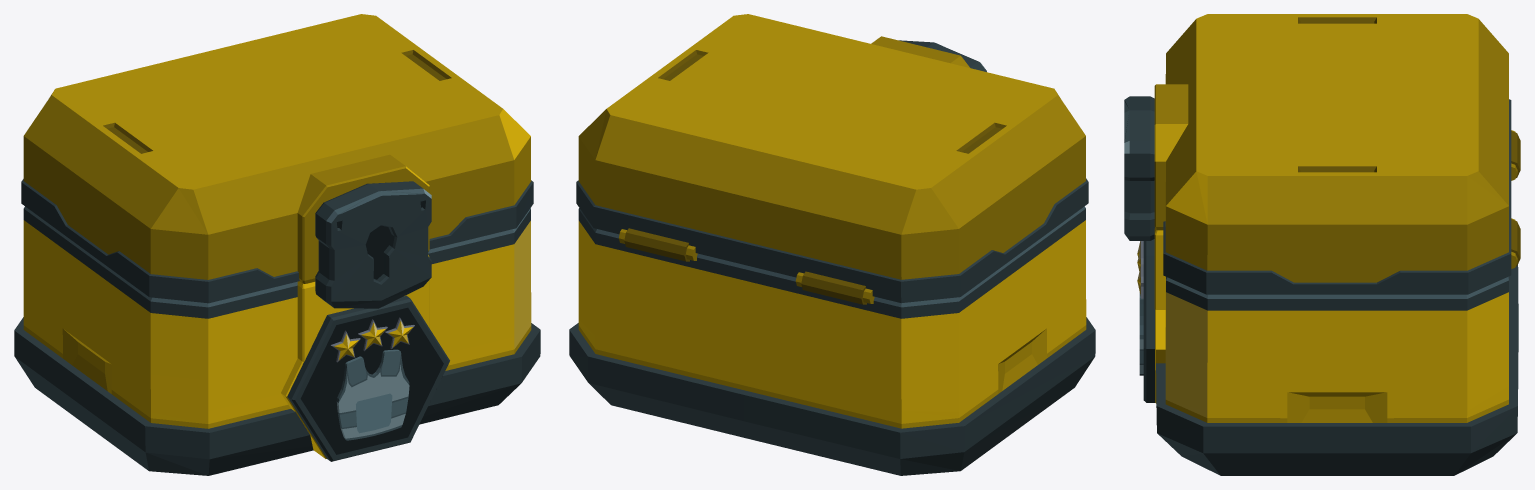
File: BOX_GEAR_G1_03.fbx
The picture shows the model from 3 angles, left to right: view 1: azimuth 30°, elevation 25°; view 2: azimuth 150°, elevation 25°; view 3: azimuth 270°, elevation 25°; orthographic projection. The views are drawn at different scales.
Parts seen in each view (by area): view 1: Object003, BOX_GEAR_G1_03, Object004; view 2: Object003, BOX_GEAR_G1_03; view 3: Object003, BOX_GEAR_G1_03, Object004.
Boxes of the visible parts, bbox=[...] form: Object003: bbox=[21, 14, 533, 303]; BOX_GEAR_G1_03: bbox=[14, 206, 540, 475]; Object004: bbox=[315, 181, 431, 308]; Object003: bbox=[576, 14, 1088, 304]; BOX_GEAR_G1_03: bbox=[569, 206, 1095, 475]; Object003: bbox=[1154, 14, 1520, 294]; BOX_GEAR_G1_03: bbox=[1137, 228, 1518, 475]; Object004: bbox=[1124, 96, 1154, 240].
Bounding box in the file's own units: 187 × 128 × 158.
